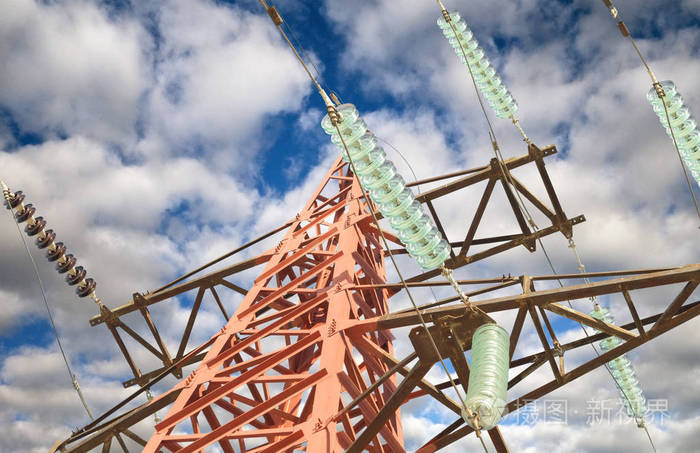insulator: (318, 106, 454, 271), (3, 191, 98, 296), (437, 11, 522, 117), (590, 305, 648, 421), (460, 326, 511, 431), (649, 78, 700, 169)
